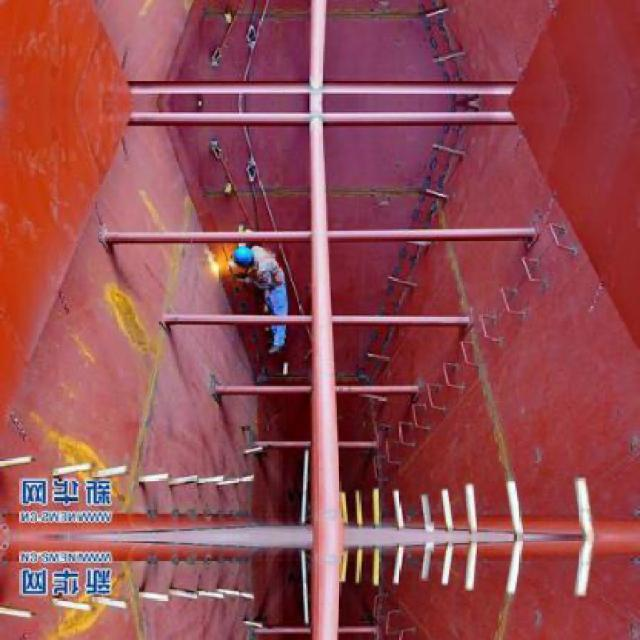helmet: (232, 243, 260, 268)
